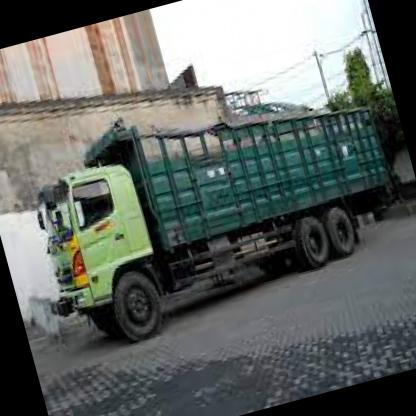truck: (26, 151, 184, 360)
